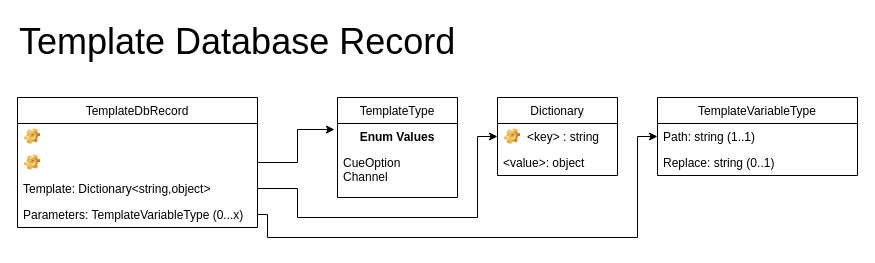
The diagram is 875 pixels wide and 263 high, and some of its shapes have lost their labels. Each missing label, with the centre of its shape:
Id string(1..1): the point at 137,136
Type: TemplateType(1..1): the point at 137,162
